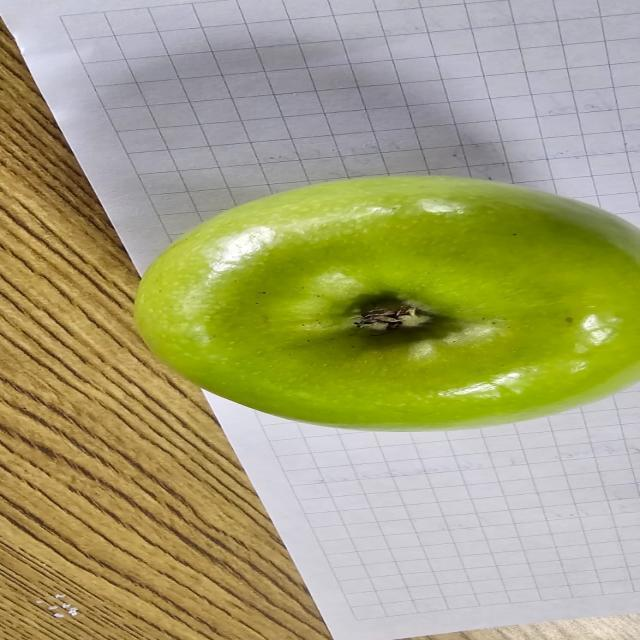Apel Granny Smith: (128, 171, 640, 436)
